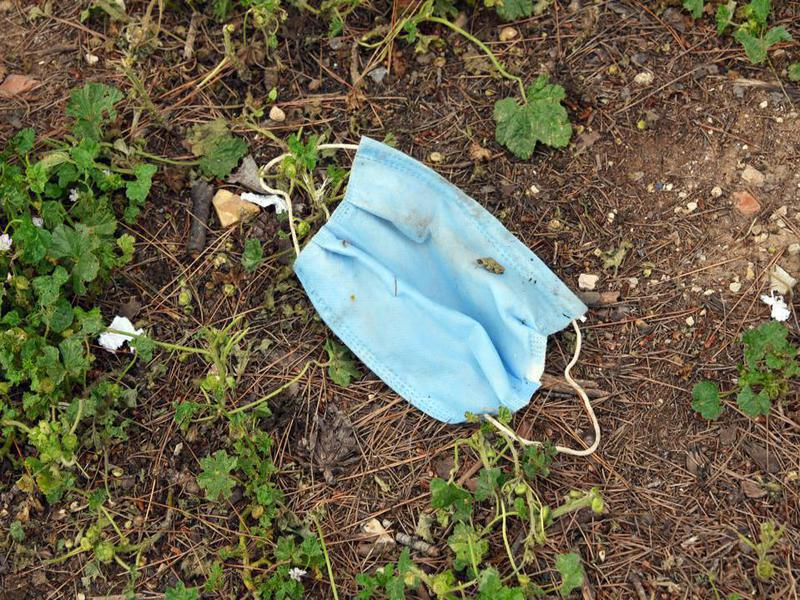leaf: (491, 75, 576, 165)
mask: (238, 126, 606, 460)
